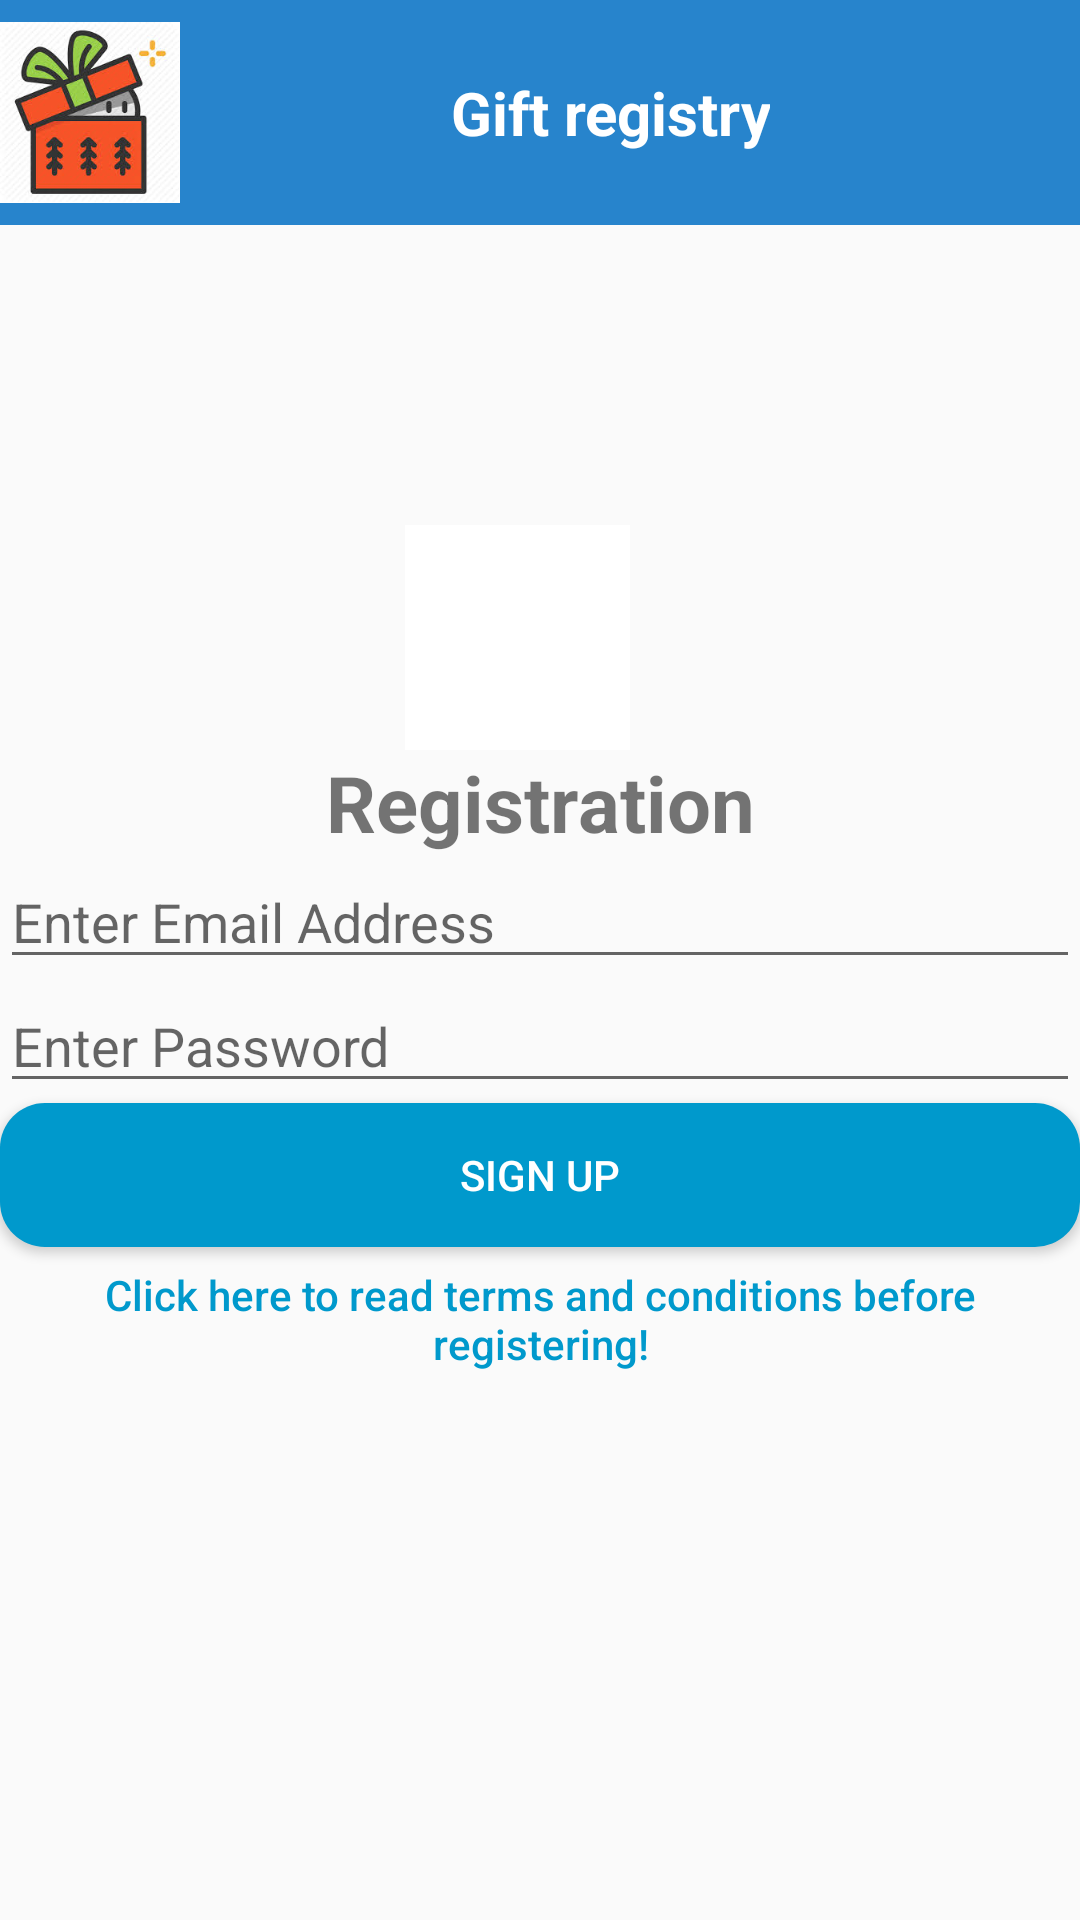

Where to tap for icons on this 1080x1920 app screen, as [x,y]:
gift: [90,112]
